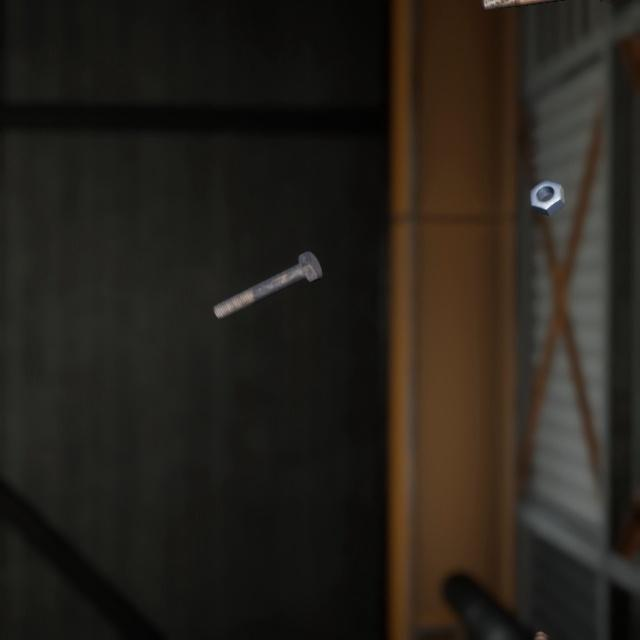bolt: (208, 229, 326, 306)
nut: (525, 161, 569, 205)
